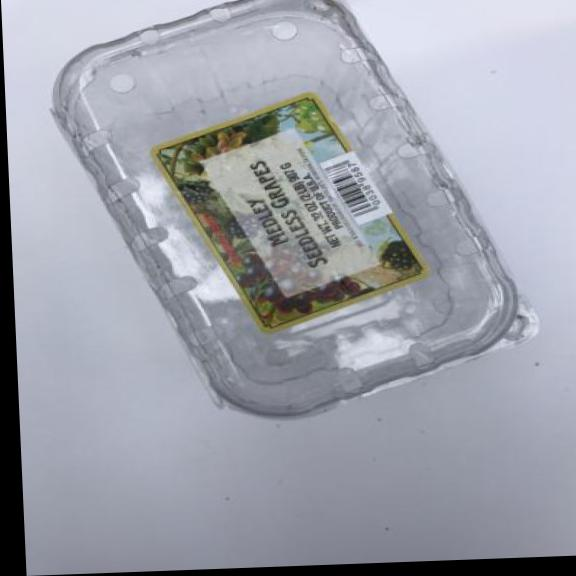Plastik: (51, 0, 549, 432)
